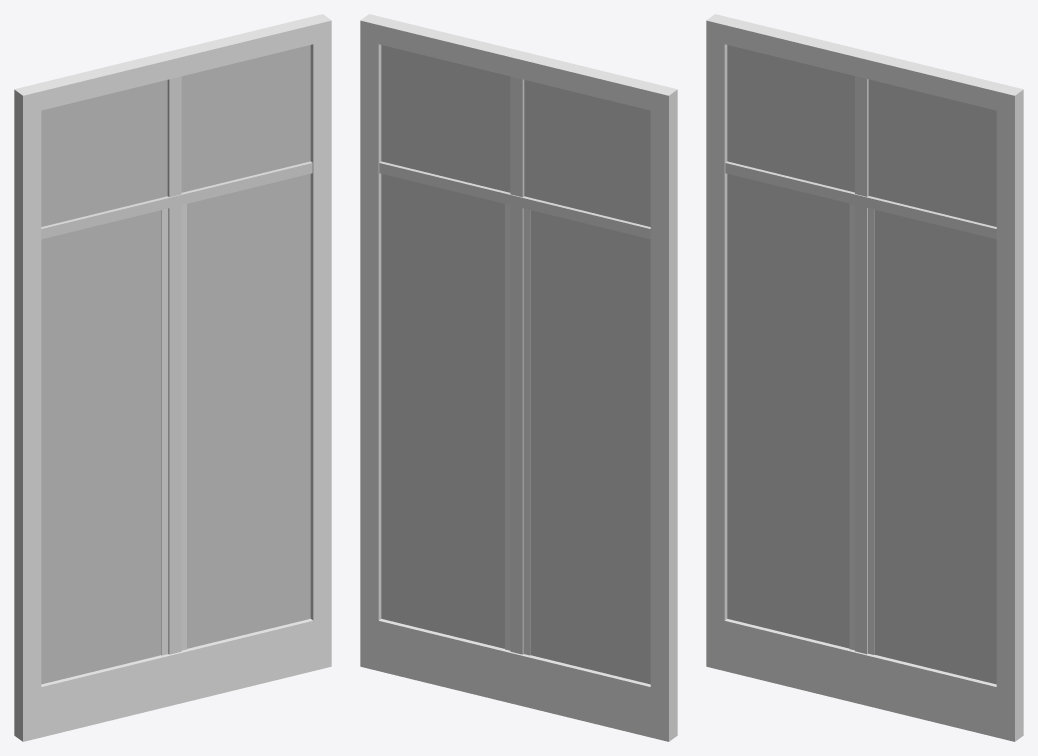
File: wall_018.fbx
The picture shows the model from 3 angles, left to right: view 1: azimuth 30°, elevation 25°; view 2: azimuth 150°, elevation 25°; view 3: azimuth 330°, elevation 25°; orthographic projection.
Visible parts, largest first — view 1: wall_018; view 2: wall_018; view 3: wall_018.
Part boxes in pixels (<box>): wall_018: <box>14,14,331,741</box>; wall_018: <box>360,14,677,741</box>; wall_018: <box>706,14,1023,741</box>.
Bounding box in the file's own units: 200 × 10 × 400.
